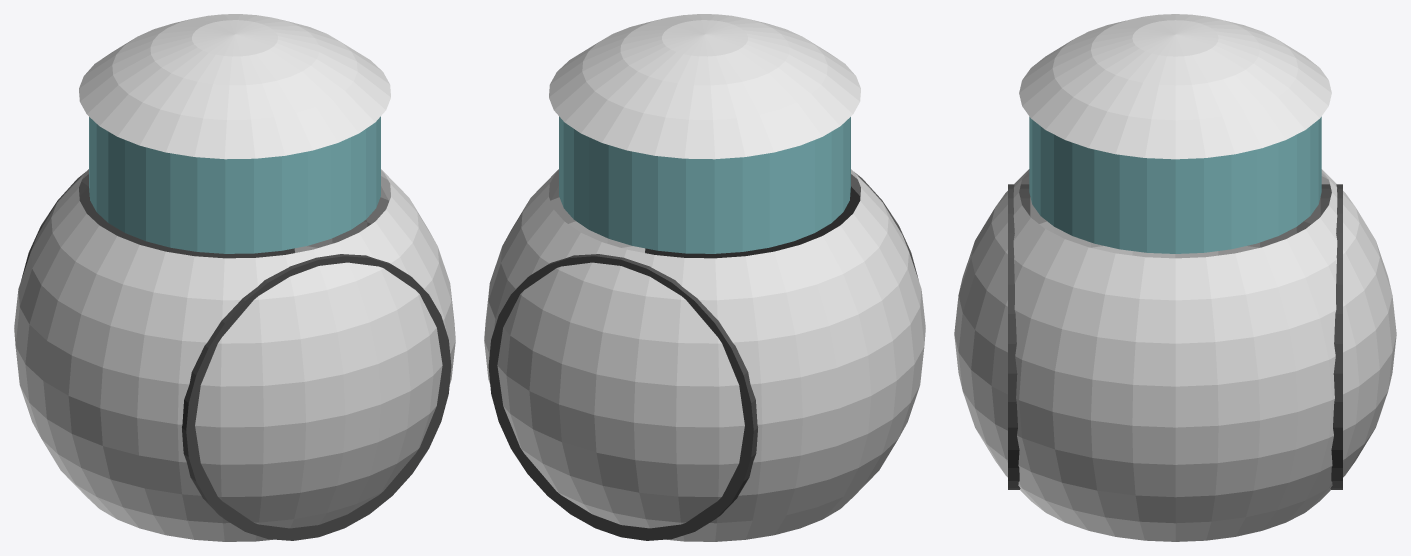
Rendered from feli_1.dae.
The picture shows the model from 3 angles, left to right: view 1: azimuth 30°, elevation 25°; view 2: azimuth 150°, elevation 25°; view 3: azimuth 270°, elevation 25°; orthographic projection.
Visible parts, largest first — view 1: Sphere, Sphere_001, Cylinder, Cylinder_001, Cylinder_002; view 2: Sphere, Sphere_001, Cylinder, Cylinder_002, Cylinder_001; view 3: Sphere, Sphere_001, Cylinder, Cylinder_001, Cylinder_002.
Part boxes in pixels (left/top/right/bottom): Sphere: left=14, top=169, right=455, bottom=541; Sphere_001: left=79, top=14, right=390, bottom=159; Cylinder: left=89, top=116, right=380, bottom=253; Cylinder_001: left=182, top=254, right=451, bottom=540; Cylinder_002: left=21, top=172, right=294, bottom=279; Sphere: left=484, top=169, right=925, bottom=541; Sphere_001: left=549, top=14, right=860, bottom=159; Cylinder: left=559, top=116, right=850, bottom=253; Cylinder_002: left=488, top=254, right=757, bottom=540; Cylinder_001: left=645, top=172, right=918, bottom=279; Sphere: left=954, top=169, right=1396, bottom=541; Sphere_001: left=1019, top=14, right=1331, bottom=159; Cylinder: left=1029, top=116, right=1321, bottom=253; Cylinder_001: left=1008, top=184, right=1030, bottom=489; Cylinder_002: left=1320, top=184, right=1342, bottom=489.
Size of the model in its own units: 0.318 by 0.318 by 0.35.
